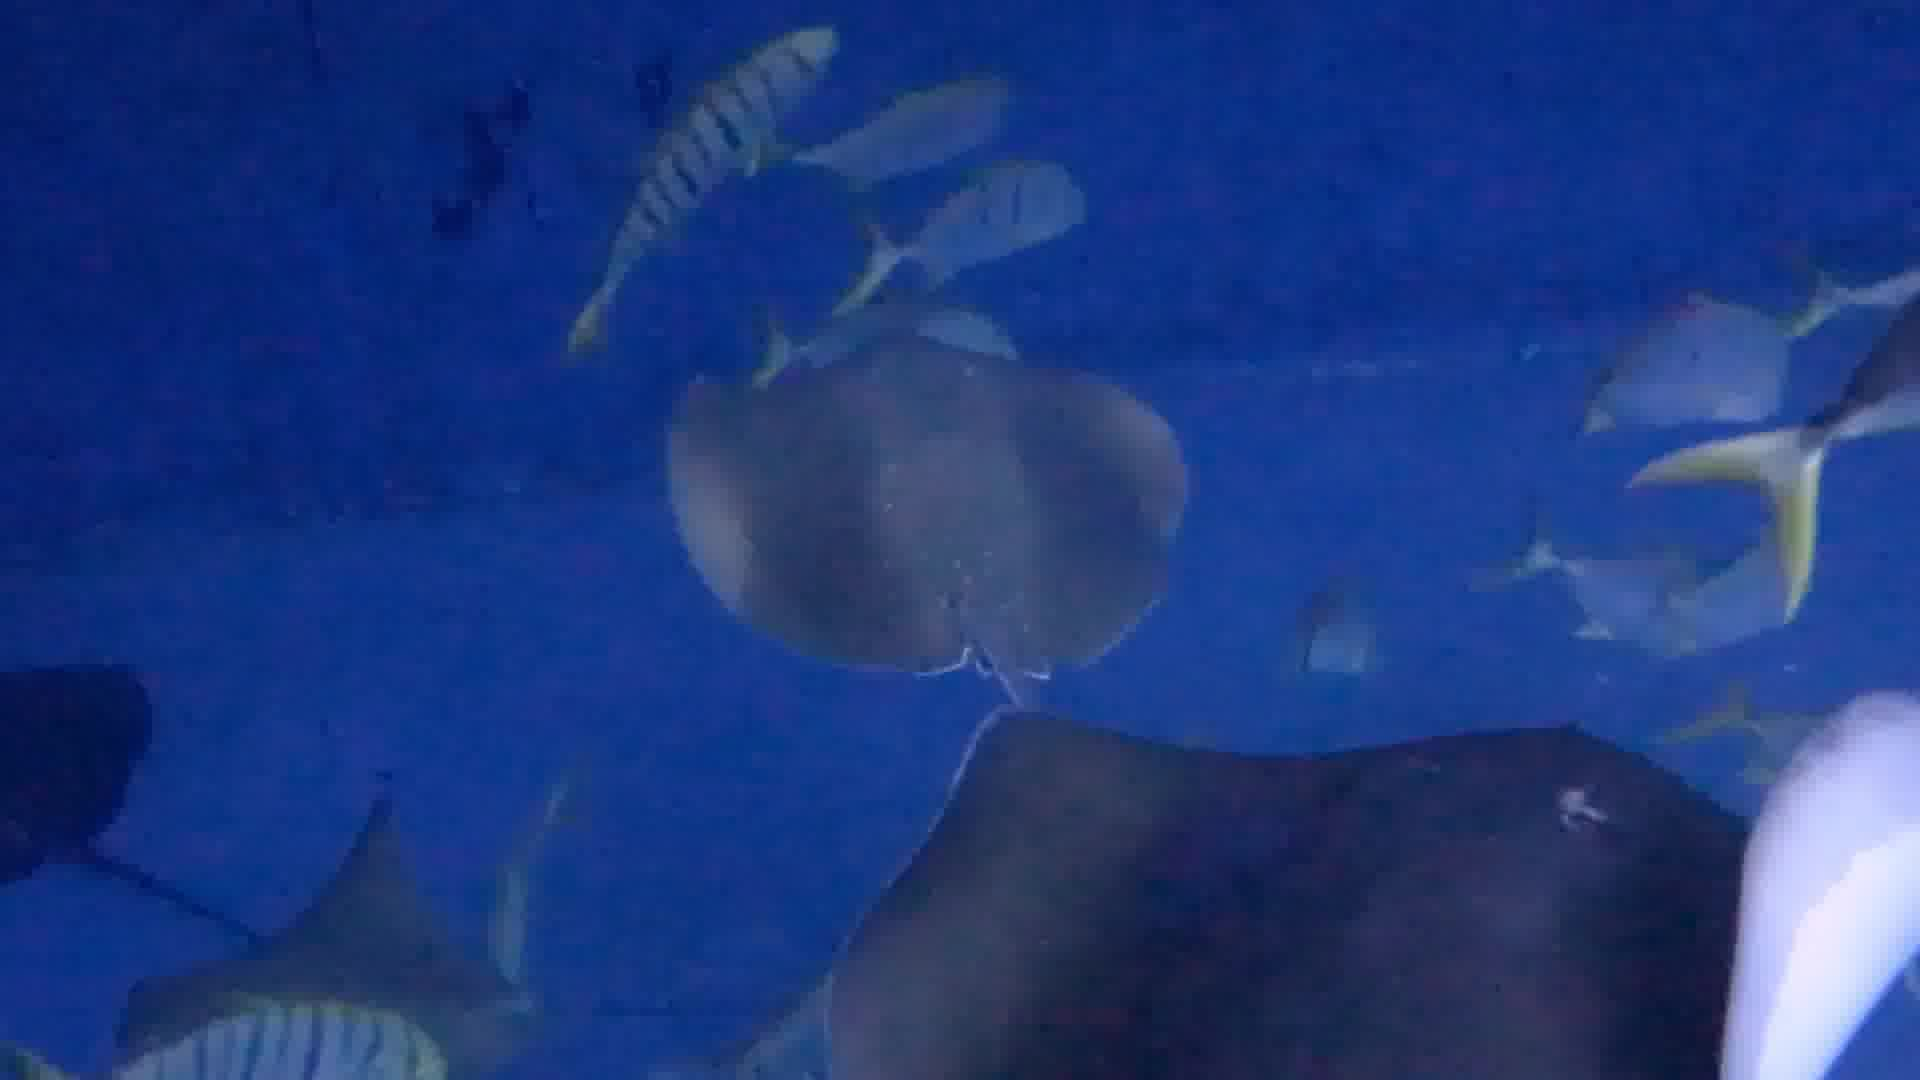Himantura gerrardi: (655, 326, 1238, 702)
